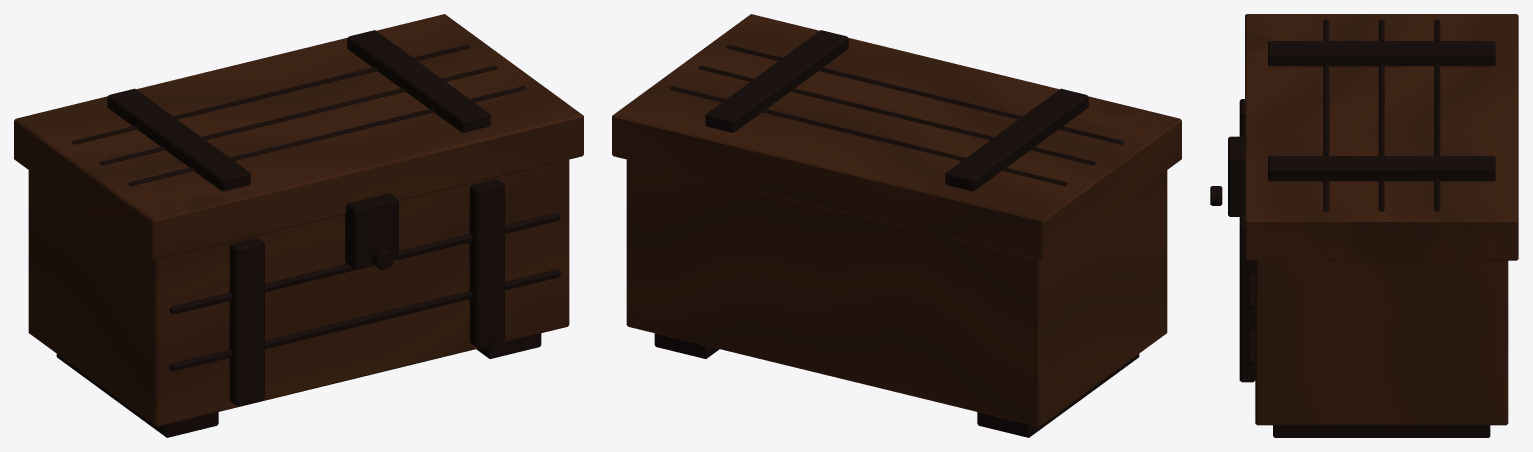
The model's file is chest_poor_household.glb.
The picture shows the model from 3 angles, left to right: view 1: azimuth 30°, elevation 25°; view 2: azimuth 150°, elevation 25°; view 3: azimuth 270°, elevation 25°; orthographic projection.
Visible parts, largest first — view 1: PoorHouseholdChestMesh; view 2: PoorHouseholdChestMesh; view 3: PoorHouseholdChestMesh.
Part boxes in pixels (left/top/right/bottom): PoorHouseholdChestMesh: left=14, top=14, right=583, bottom=437; PoorHouseholdChestMesh: left=612, top=14, right=1181, bottom=437; PoorHouseholdChestMesh: left=1210, top=14, right=1518, bottom=437.
Size of the model in its own units: 0.815 by 0.4475 by 0.5125.
Materials: 2 (2 with a texture image).
